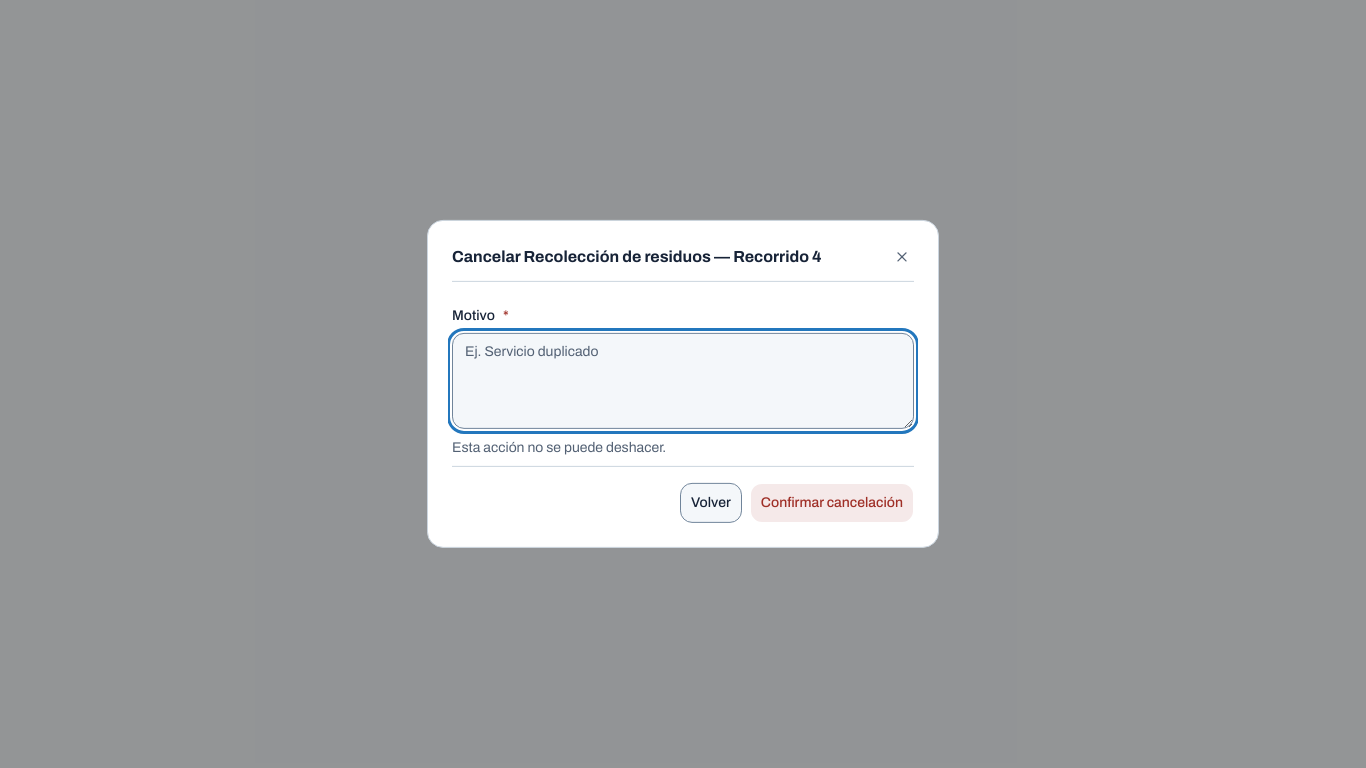
service dialog validation associations › associates cancel reason errors with the reason field
Click the button "Confirmar cancelación": (832, 503) [750,483,914,523]
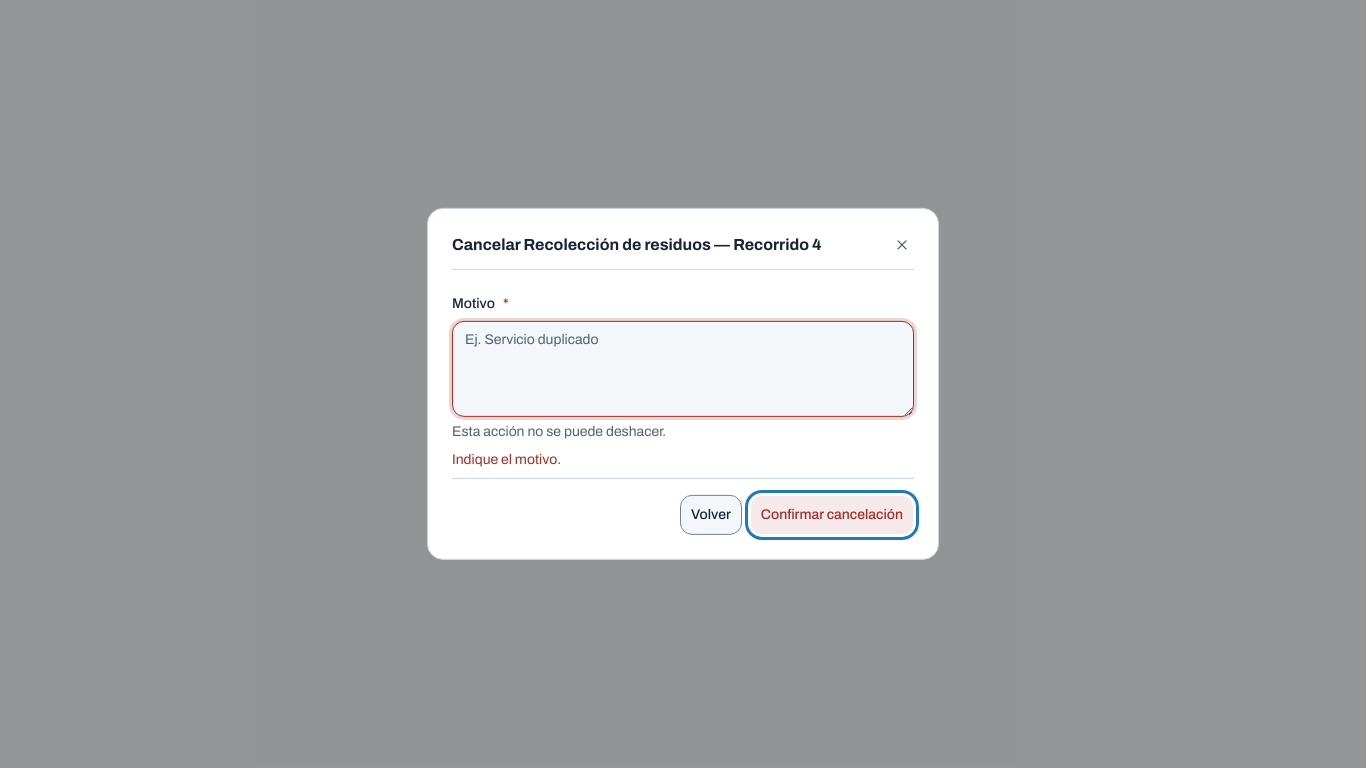
Expected: the message "Indique el motivo." is shown, [452,452,561,467]
